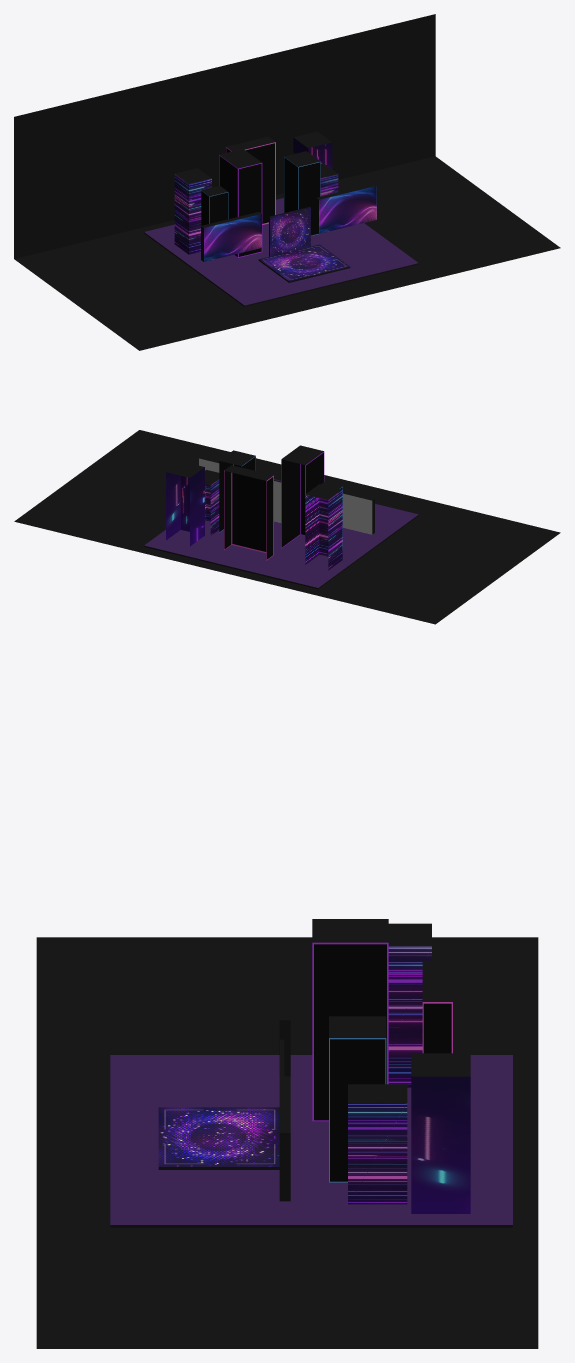
Rendered from stagevrs2_02_v1.fbx.
3 renders of one model, top to bottom at view 1: azimuth 30°, elevation 25°; view 2: azimuth 150°, elevation 25°; view 3: azimuth 270°, elevation 25°, orthographic. The views are drawn at different scales.
Visible parts, largest first — view 1: black_bg, purplefloor1, screens1, pCube3, pCube24, pCube6, platform, pCube5, pCube23, pCube7, polySurface4, pCube9; view 2: black_bg, purplefloor1, pCube5, pCube3, pCube24, pCube7, polySurface4, pCube9, pCube6; view 3: black_bg, purplefloor1, pCube7, pCube3, platform, pCube9, pCube6, pCube24, pCube5, polySurface4.
Boxes of the visible parts, <box> form: black_bg: <box>14,14,560,350</box>; purplefloor1: <box>144,198,418,306</box>; screens1: <box>204,185,376,261</box>; pCube3: <box>219,149,262,257</box>; pCube24: <box>174,168,211,254</box>; pCube6: <box>284,151,320,235</box>; platform: <box>258,244,350,282</box>; pCube5: <box>226,136,275,224</box>; pCube23: <box>201,186,228,225</box>; pCube7: <box>293,131,332,169</box>; polySurface4: <box>201,183,376,261</box>; pCube9: <box>320,163,338,196</box>; black_bg: <box>14,430,560,624</box>; purplefloor1: <box>144,479,418,589</box>; pCube5: <box>224,465,273,560</box>; pCube3: <box>281,445,324,548</box>; pCube24: <box>305,484,342,570</box>; pCube7: <box>166,461,204,546</box>; polySurface4: <box>199,456,374,534</box>; pCube9: <box>205,470,219,535</box>; pCube6: <box>219,450,255,532</box>; black_bg: <box>36,937,538,1348</box>; purplefloor1: <box>110,1055,512,1227</box>; pCube7: <box>411,1053,470,1213</box>; pCube3: <box>312,919,388,1121</box>; platform: <box>158,1107,279,1169</box>; pCube9: <box>348,1084,407,1204</box>; pCube6: <box>329,1016,386,1182</box>; pCube24: <box>388,923,431,1087</box>; pCube5: <box>422,960,452,1053</box>; polySurface4: <box>279,963,290,1201</box>.
Size of the model in its own units: 217 by 69.91 by 112.
Materials: 11 (4 with a texture image).
